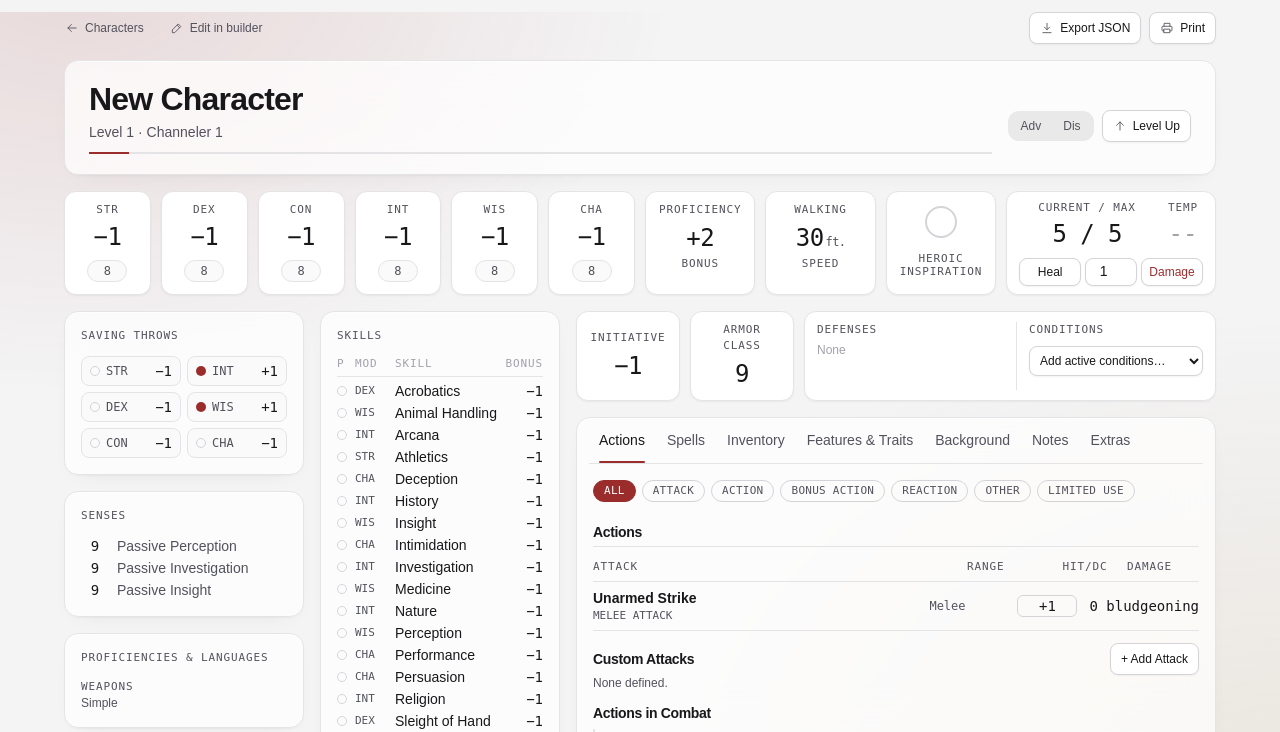
Test: FullSheet interactivity › adds a rollable custom attack from the Actions tab
This screenshot has width=1280, height=732.
Step 1. Click the button "+ Add Attack" → point(1154, 659), box [1110, 643, 1199, 675]
(page scrolled)
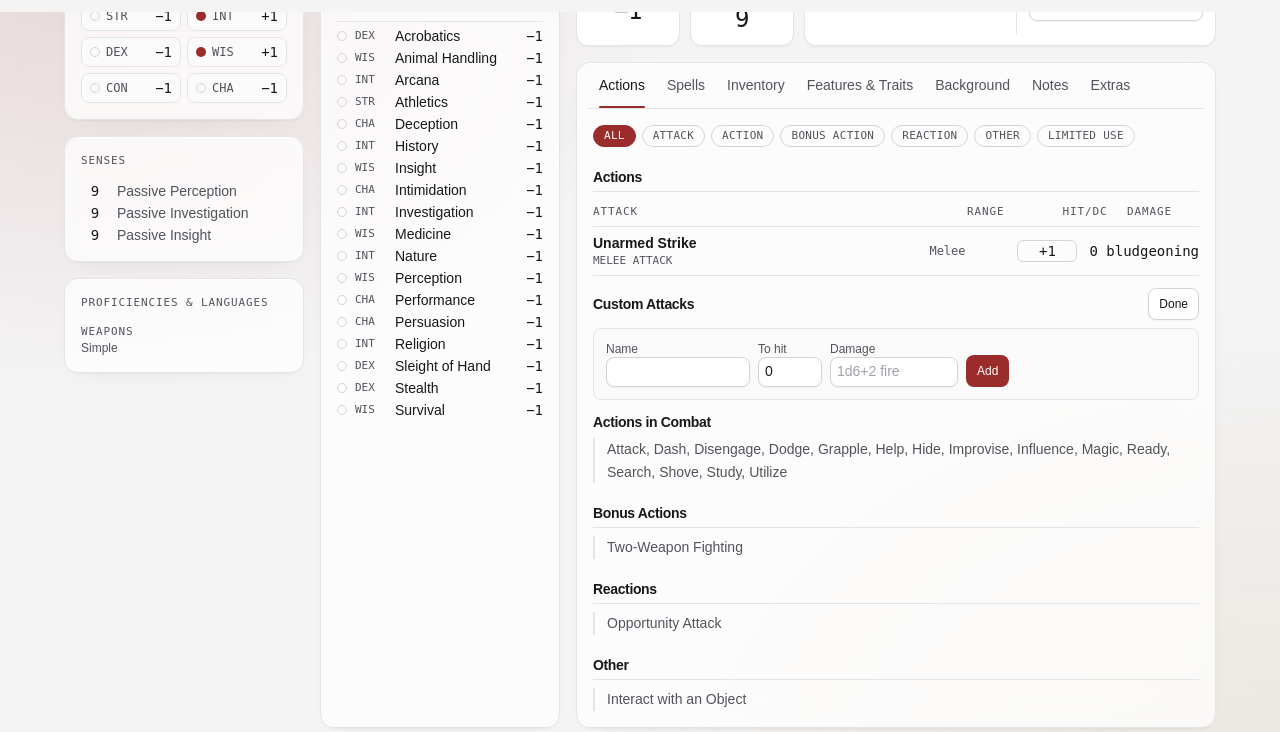
Step 2. Type "Flame Jet" into the field named "Attack name" → point(678, 372), box [606, 357, 750, 387]
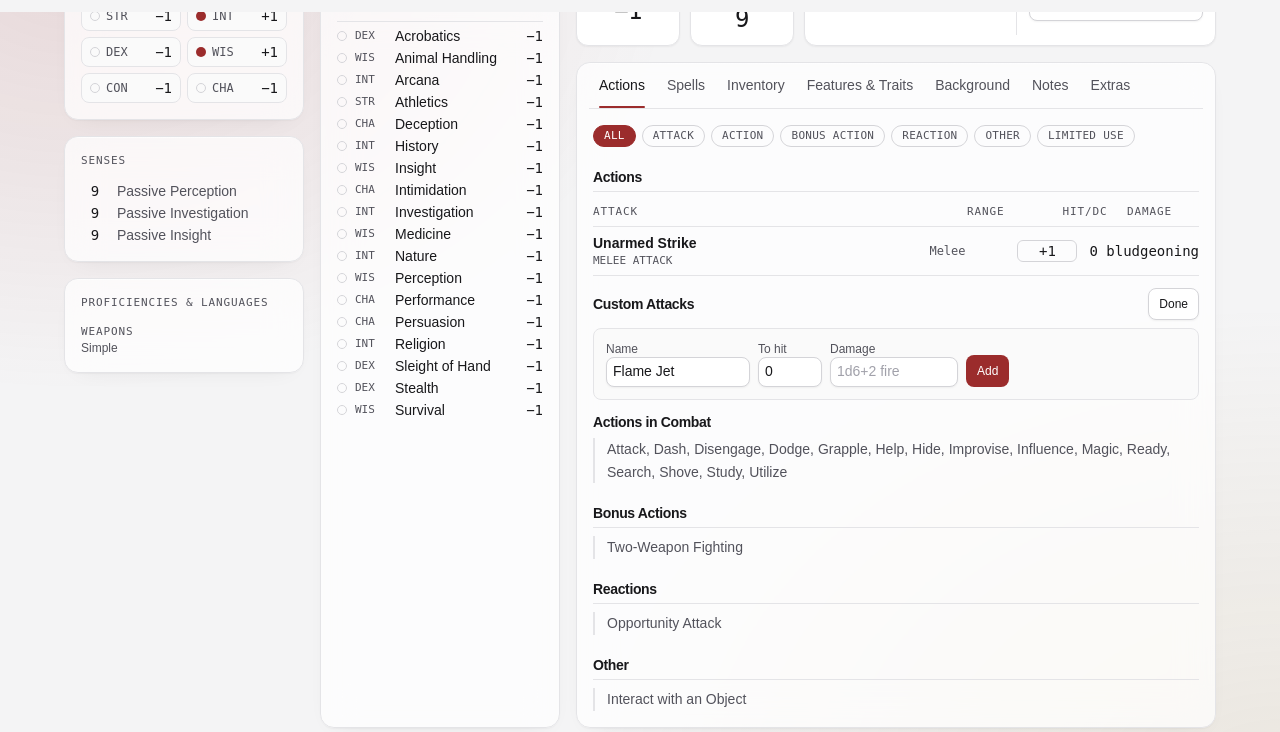
Step 3. Replace the text in the number field named "Attack bonus" with "5" → point(790, 372), box [758, 357, 822, 387]
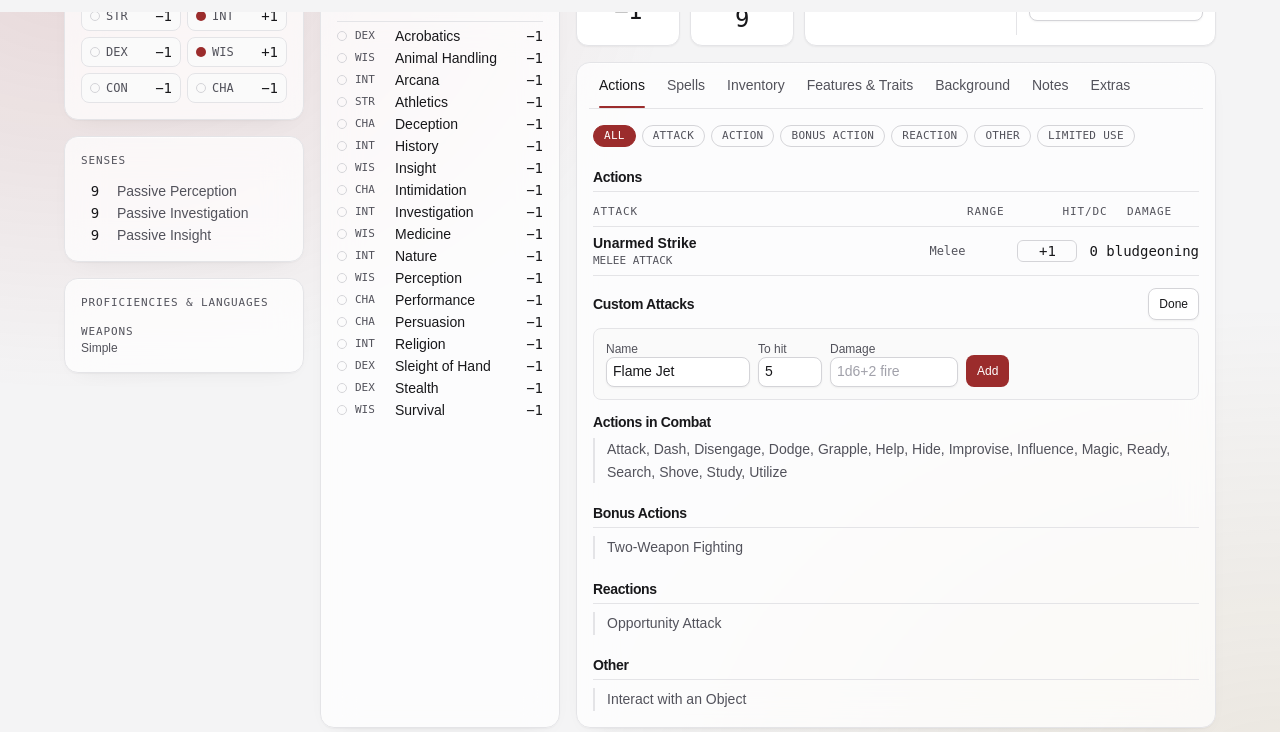
Step 4. Type "2d6 fire" into the field named "Attack damage" → point(894, 372), box [830, 357, 958, 387]
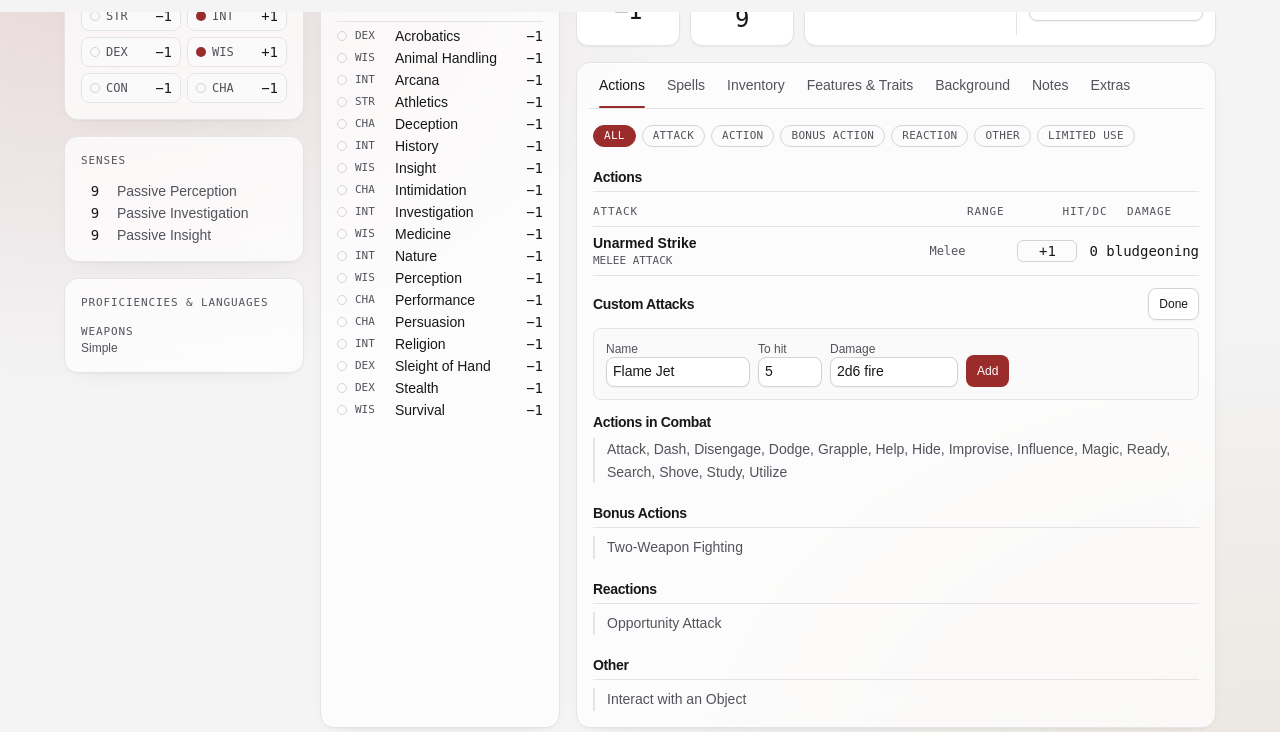
Step 5. Click the button "Add" → point(988, 371), box [966, 355, 1009, 387]
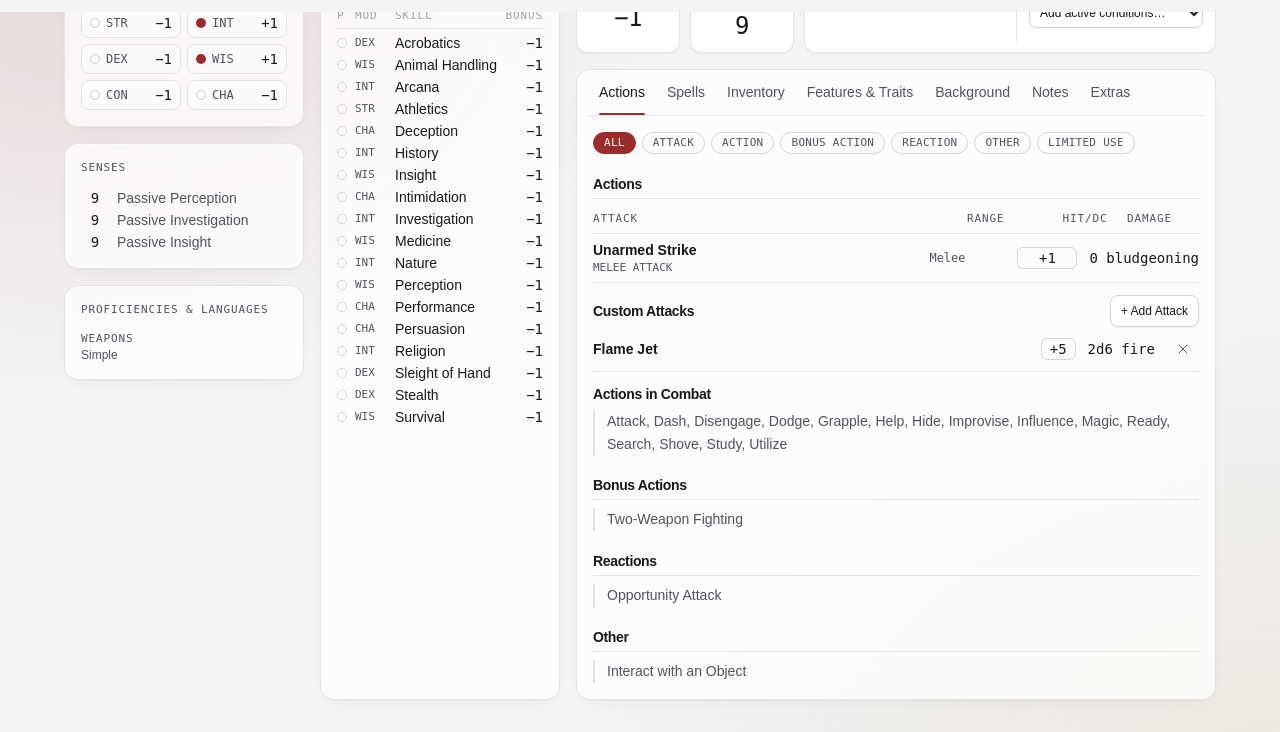
Step 6. Click the button named "Roll attack: Flame Jet" → point(1058, 349), box [1041, 338, 1076, 360]
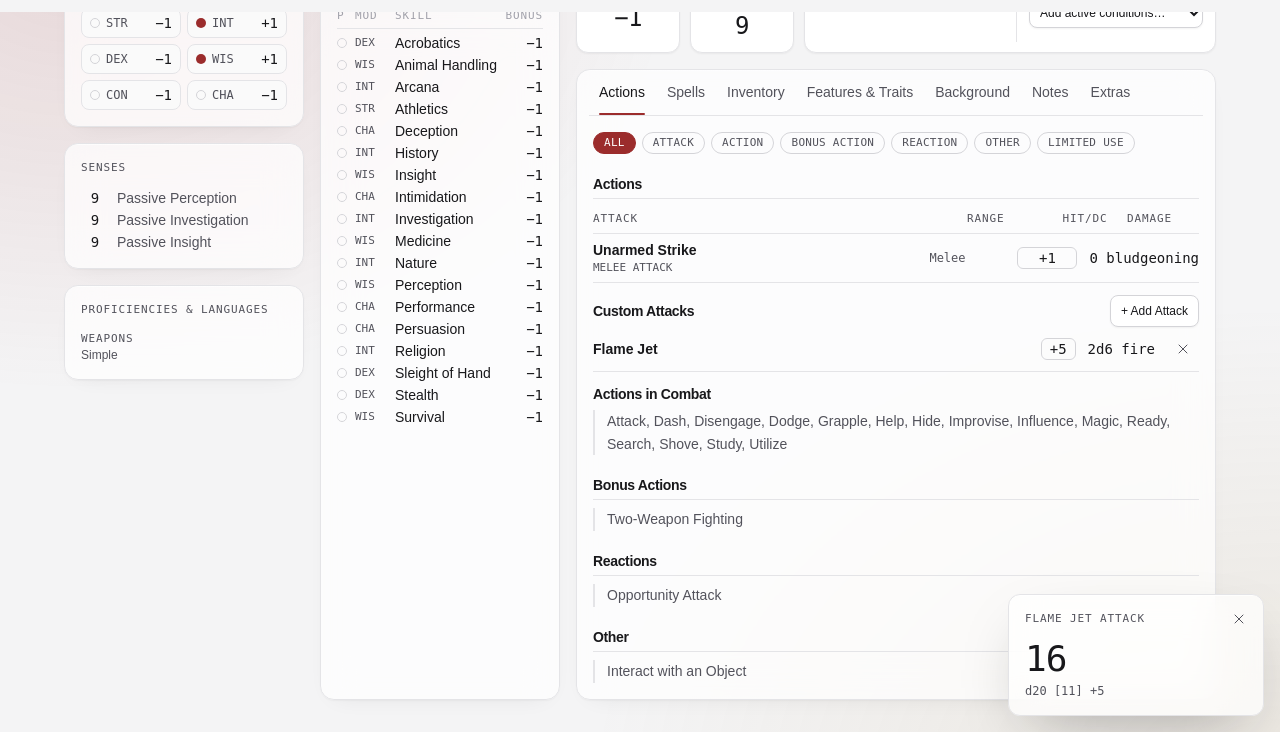
Expected: the text "16" is shown, [1025, 638, 1067, 679]
